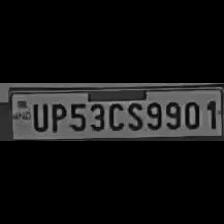0: (180, 99, 200, 129)
1: (202, 97, 220, 129)
3: (87, 100, 105, 132)
5: (66, 100, 88, 132)
9: (144, 98, 162, 130), (162, 98, 180, 130)
C: (106, 100, 124, 132)
P: (48, 100, 64, 132)
S: (124, 100, 144, 132)
U: (28, 100, 48, 132)
